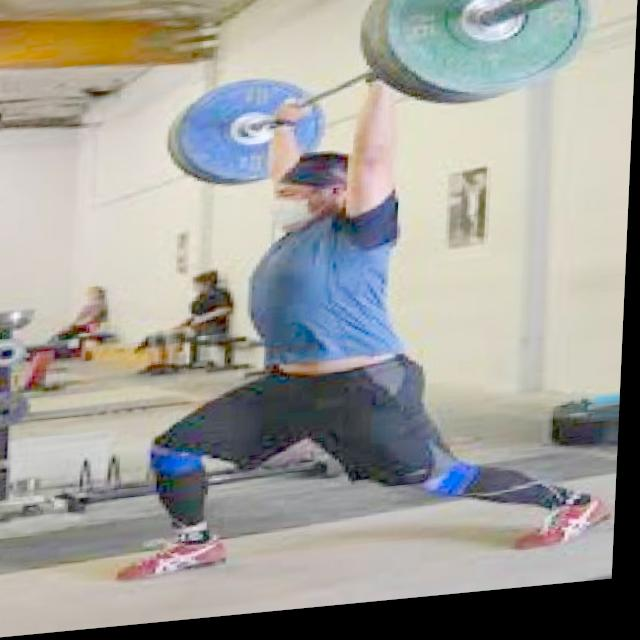barbell: (376, 1, 599, 120)
